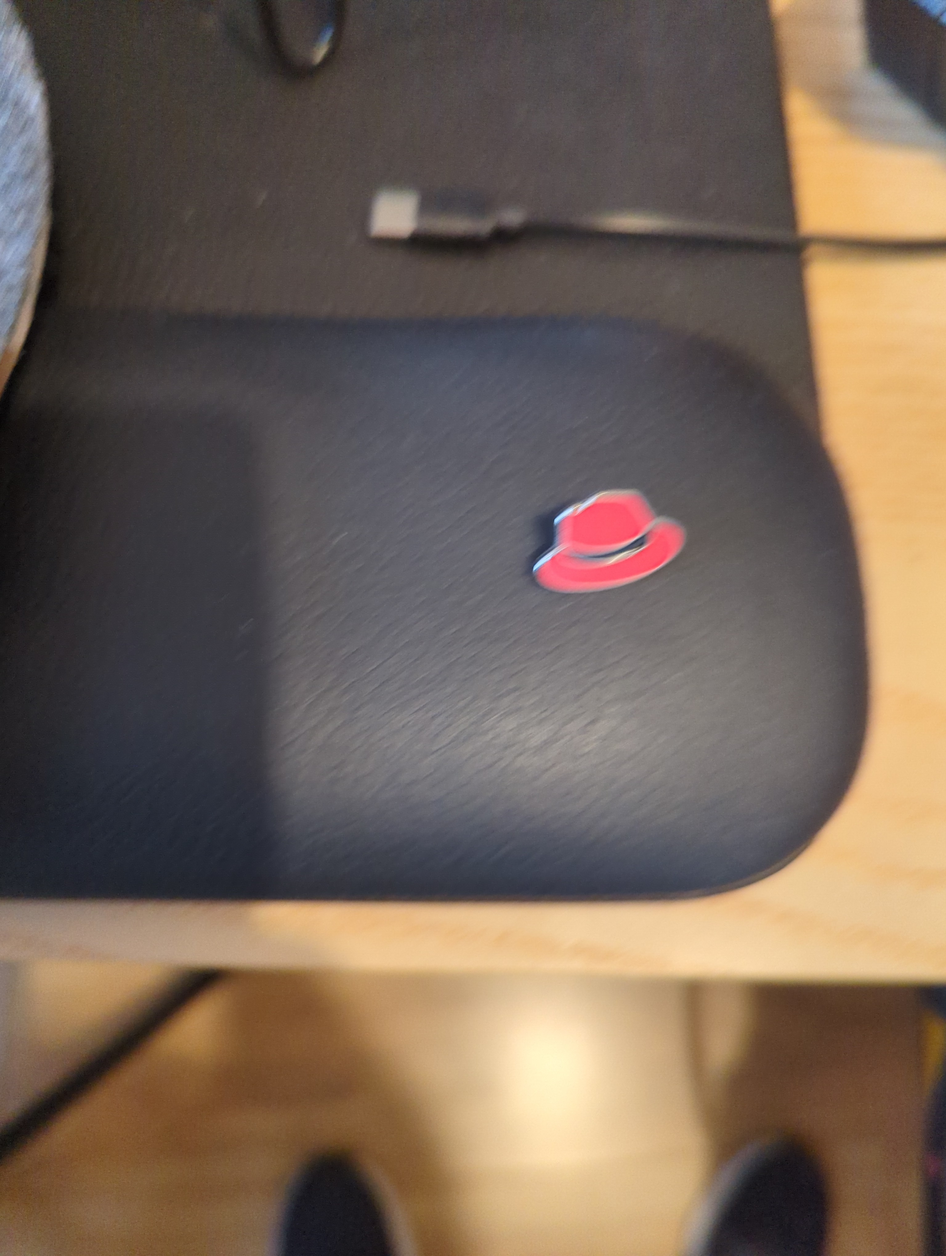Red-Hat: (452, 443, 767, 652)
